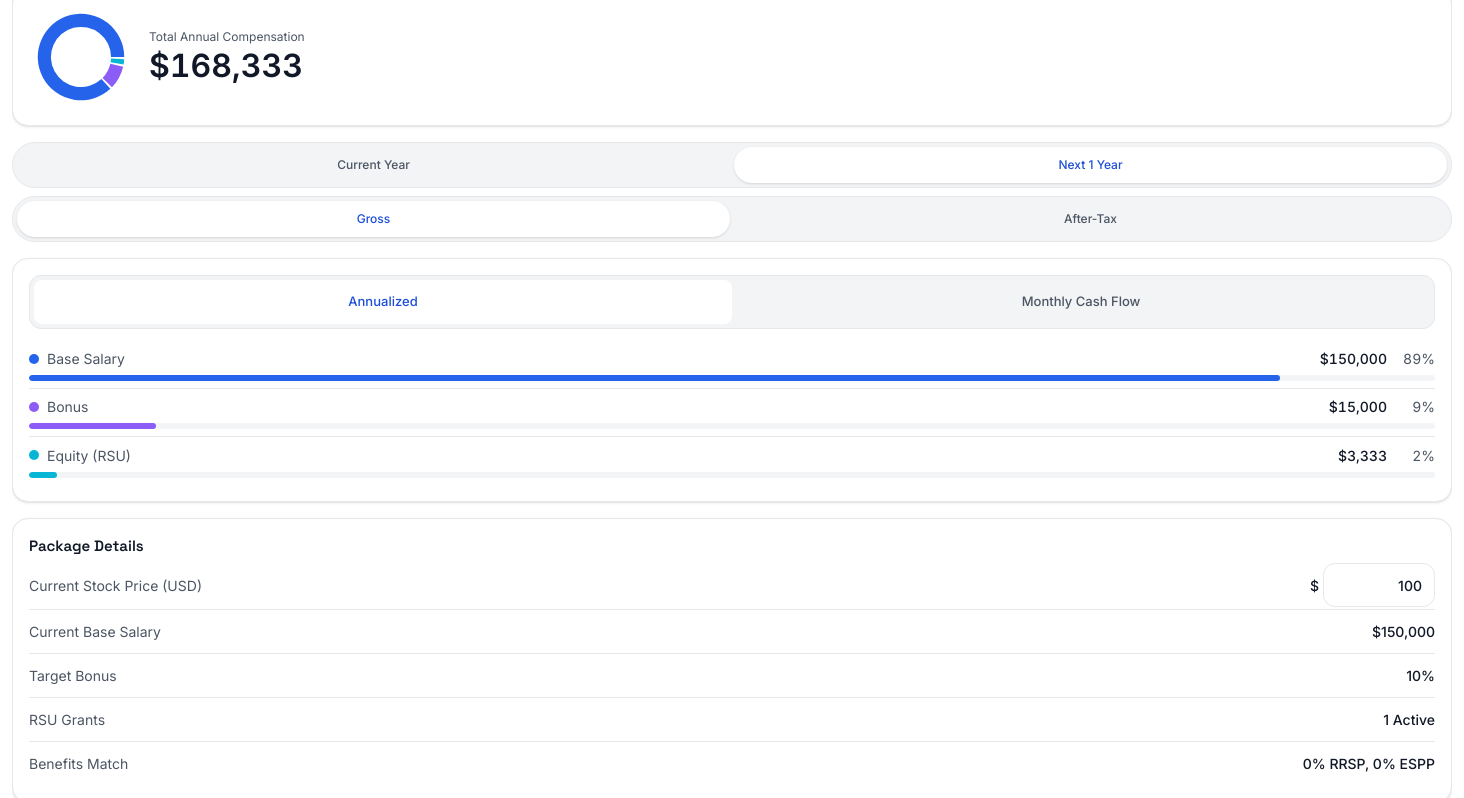
Test: CompensationMobile › labels the base salary by period and renders the equity and compare slots
Check: the text "Current Base Salary" is shown, box [29,620,161,642]
What coordinates should you click on to do the following:
click the button with aria-label "Period:"
I would click on:
 (732, 165)
Its box is [12,142,1452,188].
(page scrolled)
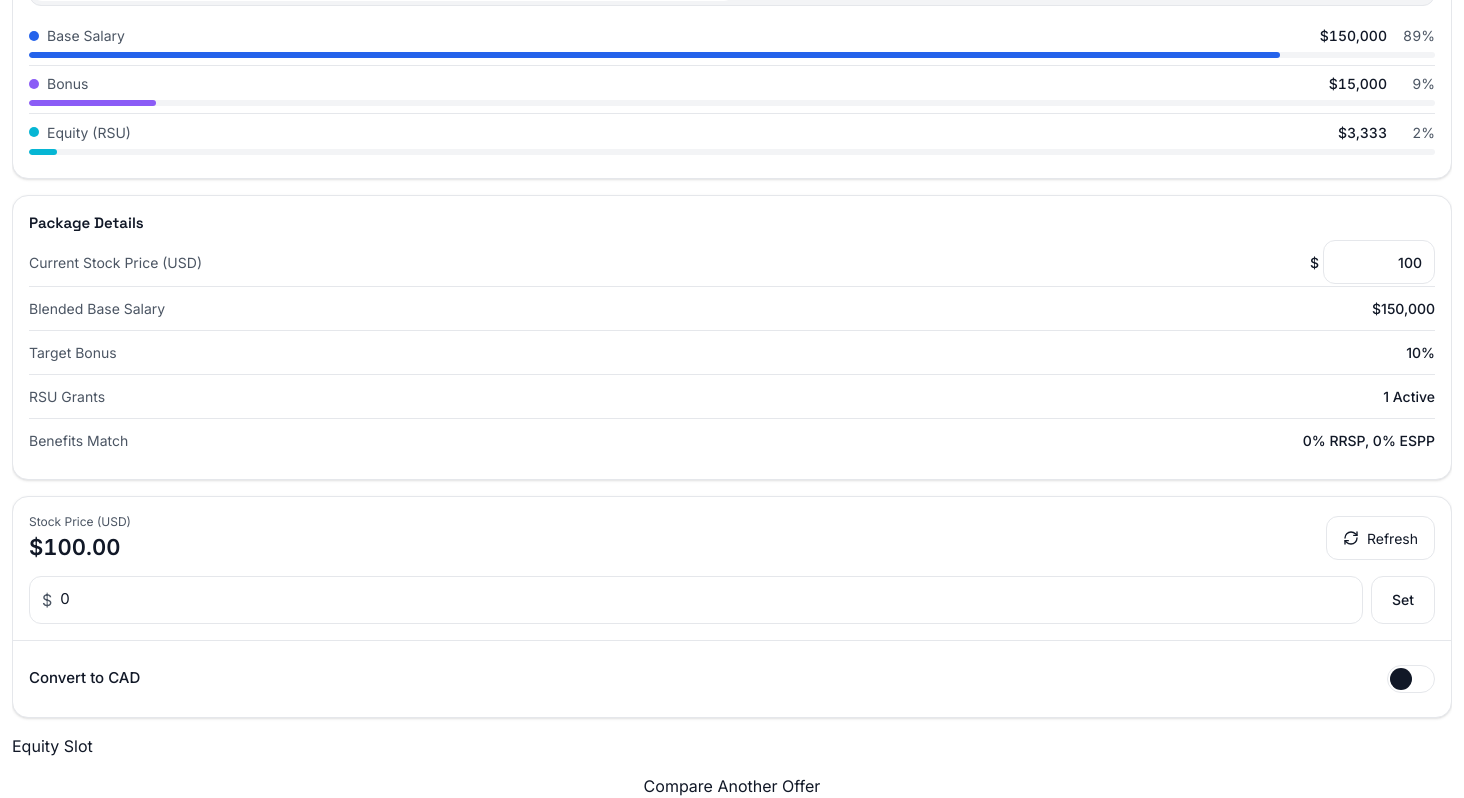
Check: the text "Equity Slot" is shown, box [12,736,93,756]
Check: the text "Blended Base Salary" is shown, box [29,298,165,318]
